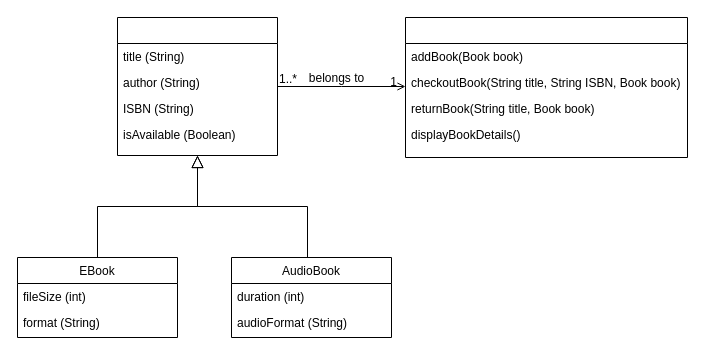
Some shapes in this 705 by 356 pixel diagram are drawn without their labels. The shapes that lost their labels are listed below. From the top down, each one's box as (x1, y1, x2, y2) in pixels, then its label:
(116, 16, 278, 156): Book
(404, 16, 688, 158): LibraryManagement
